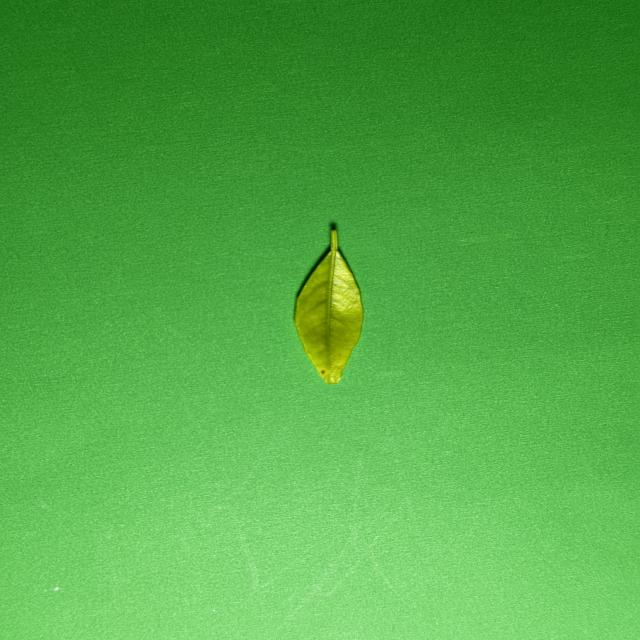greening: (295, 228, 363, 383)
